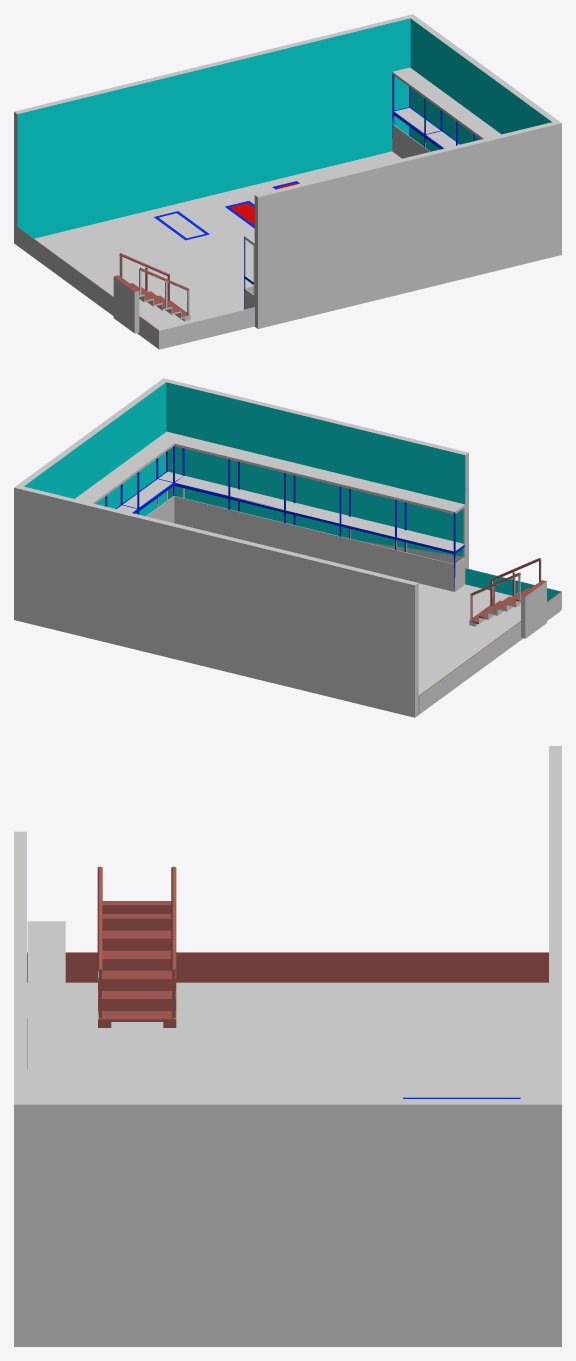
Rendered from yeniatolye.dae.
3 views of the same model, one above another, from view 1: azimuth 30°, elevation 25°; view 2: azimuth 150°, elevation 25°; view 3: azimuth 270°, elevation 25° (orthographic). The views are drawn at different scales.
Visible parts, largest first — view 1: Atolyegercek; view 2: Atolyegercek; view 3: Atolyegercek.
Part boxes in pixels (bbox=[...]): Atolyegercek: bbox=[14, 14, 561, 349]; Atolyegercek: bbox=[14, 378, 561, 717]; Atolyegercek: bbox=[14, 746, 561, 1346].
Size of the model in its own units: 13.17 by 8.4 by 4.1.
